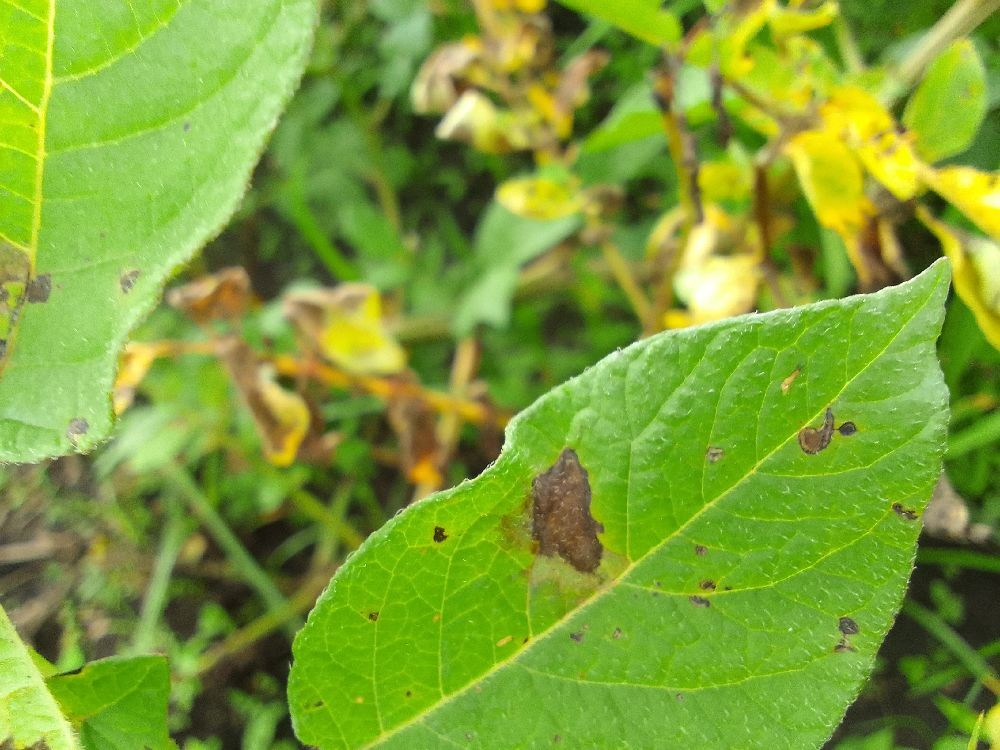late_blight: (143, 211, 529, 521), (332, 0, 645, 283), (0, 467, 191, 685), (826, 172, 985, 310)
